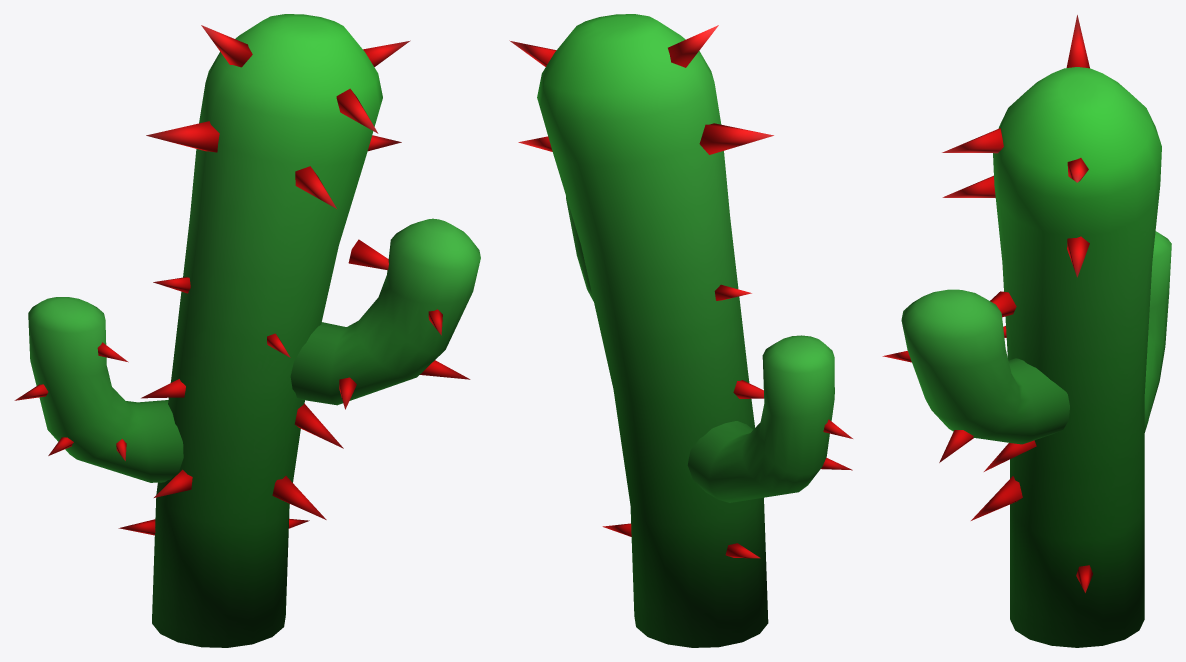
Rendered from Cactus 1.fbx.
3 renders of one model, left to right at view 1: azimuth 30°, elevation 25°; view 2: azimuth 150°, elevation 25°; view 3: azimuth 270°, elevation 25°, orthographic.
Parts seen in each view (by area): view 1: Cylinder; view 2: Cylinder; view 3: Cylinder.
Boxes of the visible parts, x1,y1,x2,y2 form: Cylinder: [14, 14, 480, 647]; Cylinder: [509, 14, 852, 647]; Cylinder: [882, 15, 1171, 647].
Size of the model in its own units: 207 by 320 by 141.
